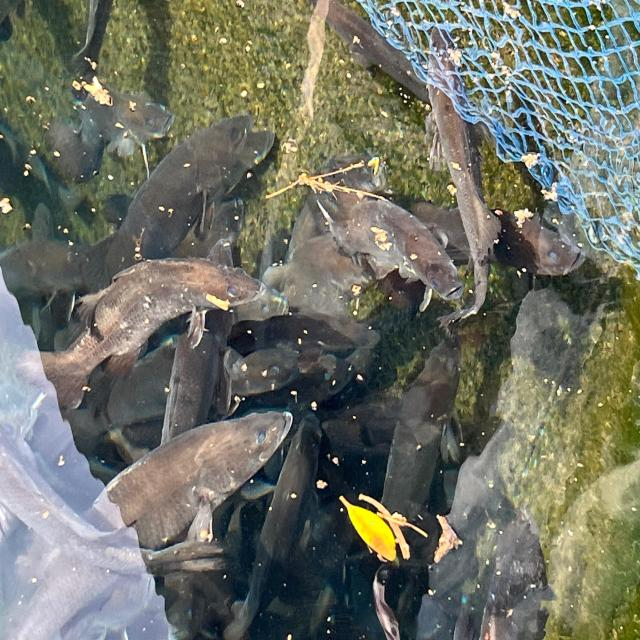ikan: (118, 400, 294, 529), (83, 228, 269, 343)
